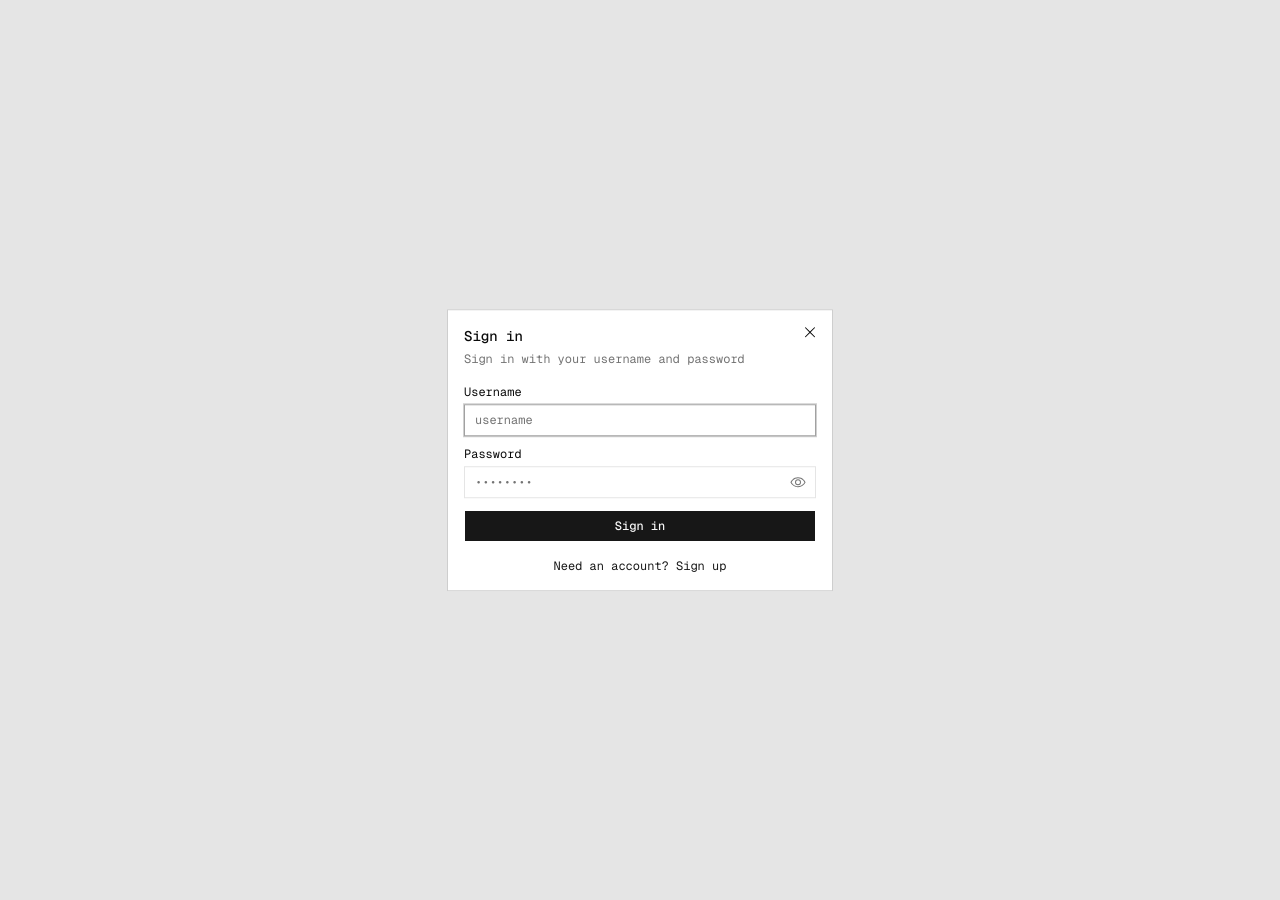
Test: AuthDialog › switches to sign-up mode
Click the button "Need an account? Sign up" at (640, 566), box [464,558,816,574]
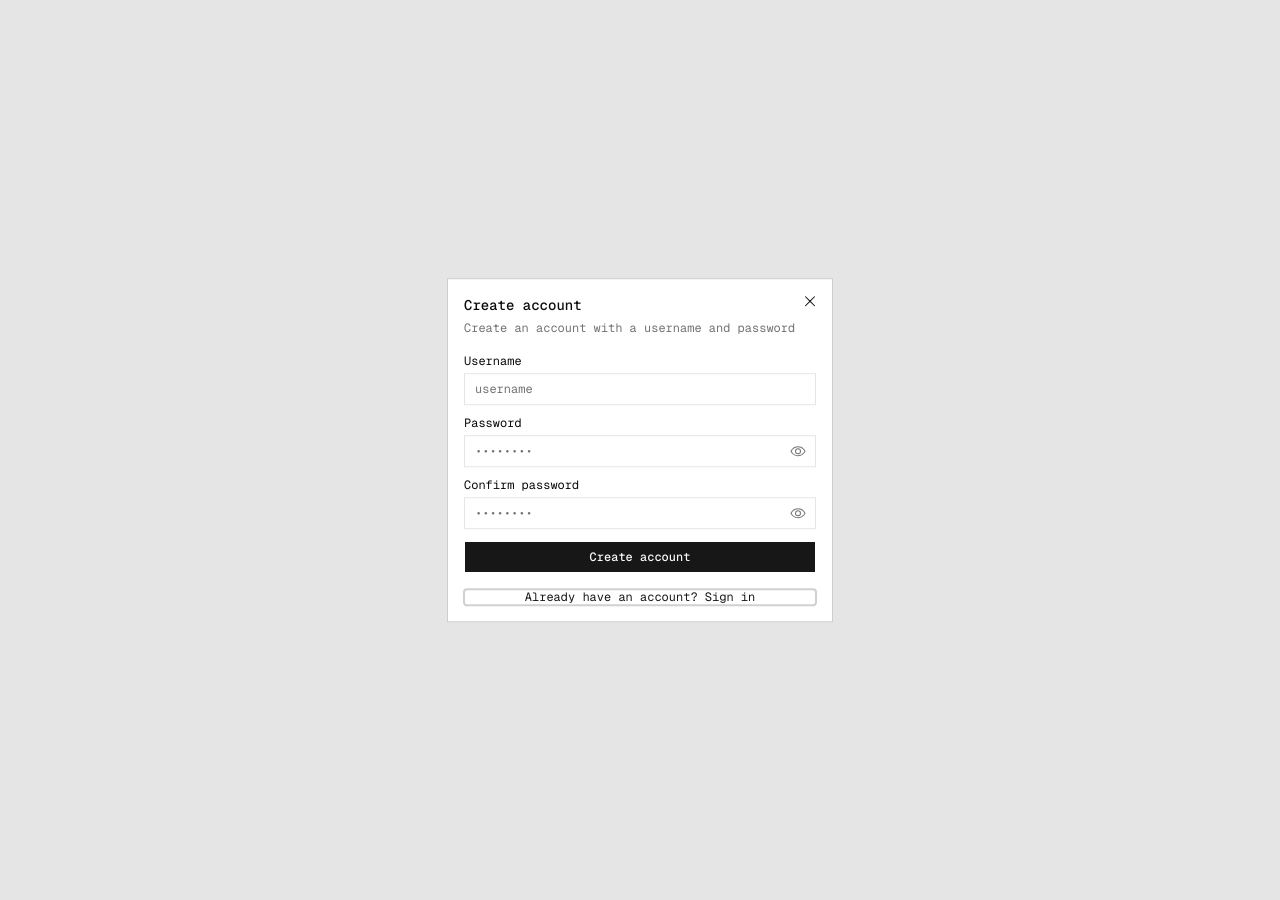
Now the heading "Create account" is shown, box [464,296,582,314]
Now the password field labelled "Confirm password" is shown, box [464,497,816,529]
Now the button "Already have an account? Sign in" is shown, box [464,589,816,605]
